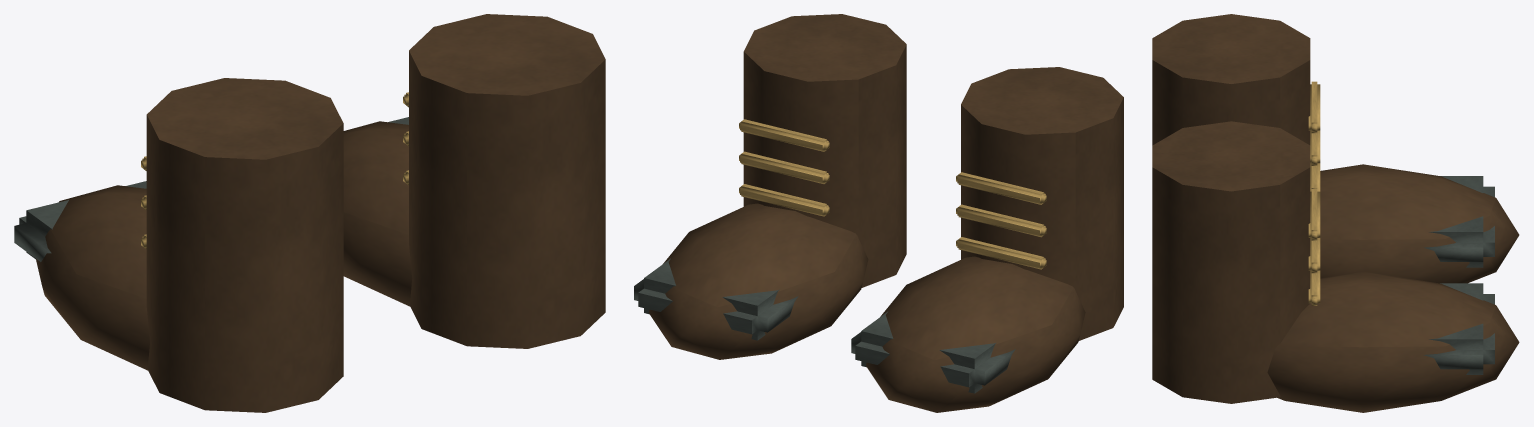
Rendered from item-IronshodBoots.fbx.
3 renders of one model, left to right at view 1: azimuth 30°, elevation 25°; view 2: azimuth 150°, elevation 25°; view 3: azimuth 270°, elevation 25°, orthographic. The views are drawn at different scales.
Parts seen in each view (by area): view 1: item-IronshodBoots__Geometry; view 2: item-IronshodBoots__Geometry; view 3: item-IronshodBoots__Geometry.
Part boxes in pixels (bbox=[...]): item-IronshodBoots__Geometry: bbox=[14, 14, 605, 412]; item-IronshodBoots__Geometry: bbox=[634, 14, 1123, 412]; item-IronshodBoots__Geometry: bbox=[1152, 14, 1519, 412].
Bounding box in the file's own units: 0.4502 × 0.275 × 0.3758.
Materials: 1 (1 with a texture image).
